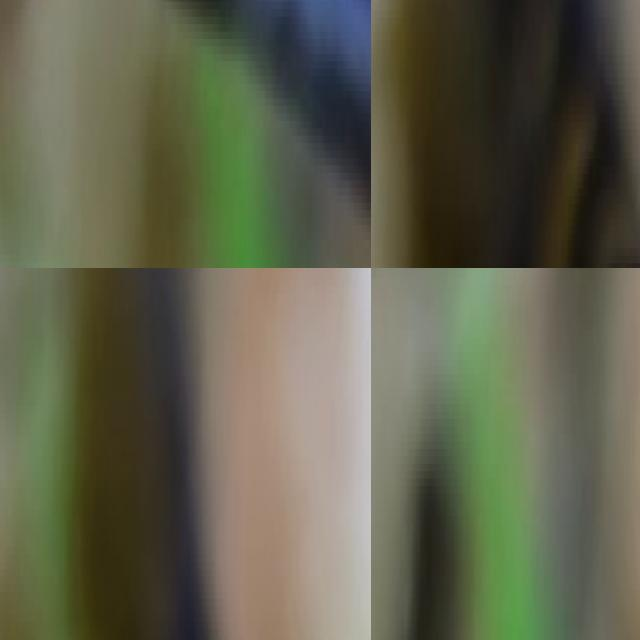fish: (0, 0, 371, 268), (371, 441, 490, 640)
